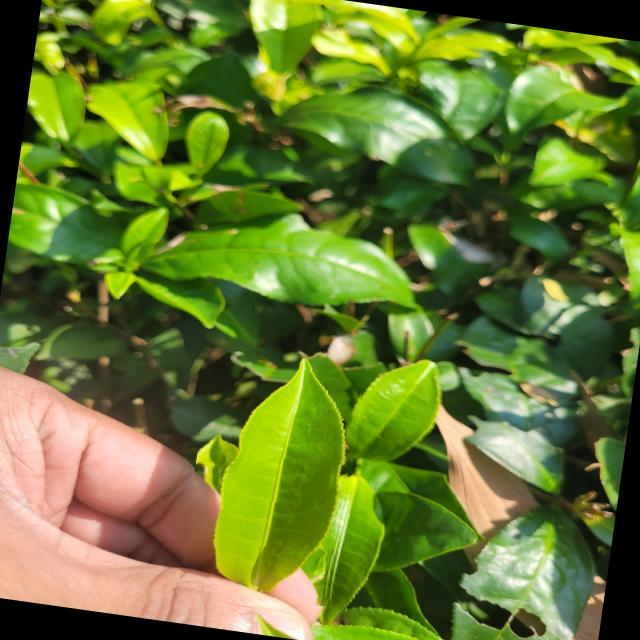Catagory A(1-2 days): (178, 336, 368, 610)
